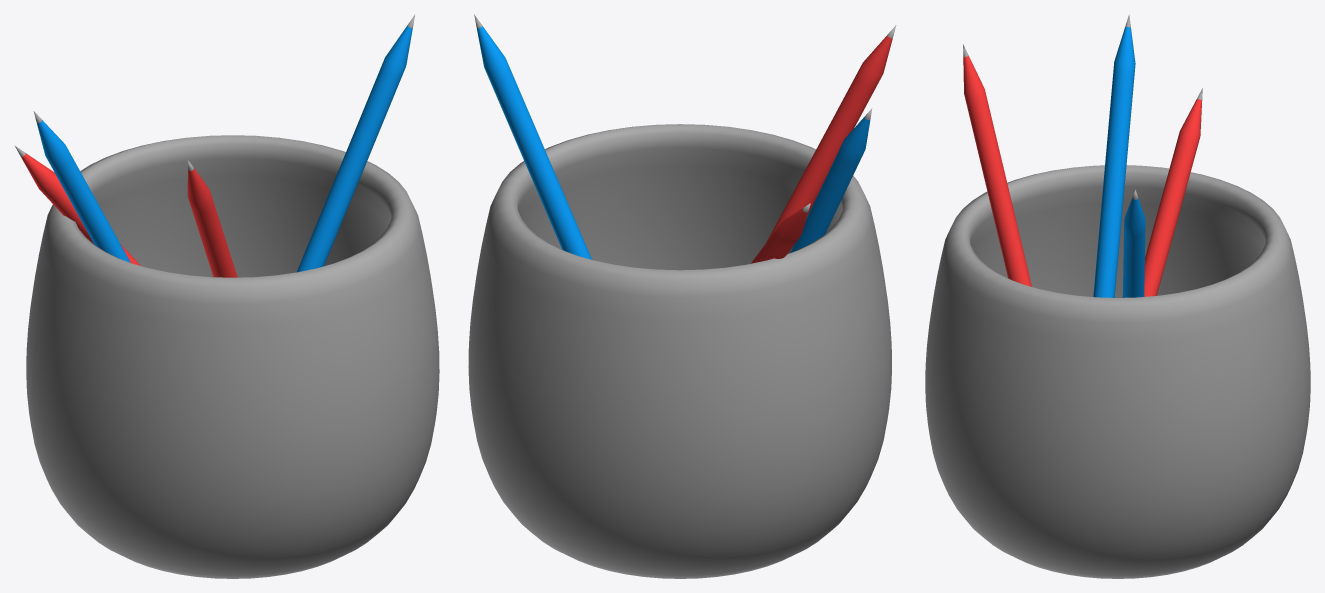
Rendered from KALEMLİK.fbx.
The picture shows the model from 3 angles, left to right: view 1: azimuth 30°, elevation 25°; view 2: azimuth 150°, elevation 25°; view 3: azimuth 270°, elevation 25°; orthographic projection. The views are drawn at different scales.
Visible parts, largest first — view 1: Cylinder011, Cylinder018, Cylinder015, Cylinder017, Cylinder016; view 2: Cylinder011, Cylinder018, Cylinder017, Cylinder015, Cylinder016; view 3: Cylinder011, Cylinder015, Cylinder017, Cylinder016, Cylinder018.
Boxes of the visible parts, x1=… form: Cylinder011: x1=26, y1=135, x2=439, y2=578; Cylinder018: x1=297, y1=14, x2=415, y2=272; Cylinder015: x1=33, y1=111, x2=130, y2=262; Cylinder017: x1=187, y1=160, x2=237, y2=277; Cylinder016: x1=14, y1=145, x2=140, y2=265; Cylinder011: x1=468, y1=124, x2=891, y2=578; Cylinder018: x1=474, y1=14, x2=591, y2=259; Cylinder017: x1=767, y1=25, x2=896, y2=241; Cylinder015: x1=790, y1=108, x2=872, y2=252; Cylinder016: x1=751, y1=203, x2=810, y2=263; Cylinder011: x1=925, y1=165, x2=1310, y2=578; Cylinder015: x1=1093, y1=14, x2=1135, y2=297; Cylinder017: x1=963, y1=44, x2=1031, y2=286; Cylinder016: x1=1144, y1=88, x2=1202, y2=296; Cylinder018: x1=1122, y1=189, x2=1145, y2=297.
Bounding box in the file's own units: 12.5 × 14.3 × 11.61.
